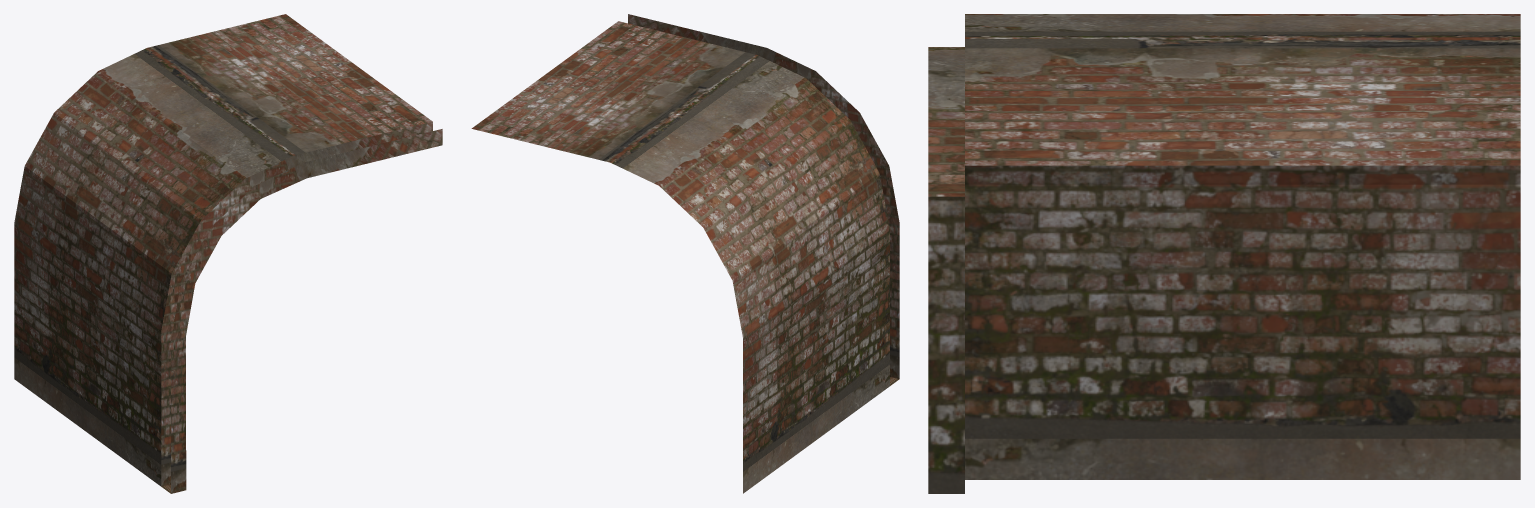
File: tunnel_HalfWall1_GEO.fbx
3 views of the same model, side by side, from view 1: azimuth 30°, elevation 25°; view 2: azimuth 150°, elevation 25°; view 3: azimuth 270°, elevation 25° (orthographic). The views are drawn at different scales.
Parts seen in each view (by area): view 1: tunnel_HalfWall1_GEO; view 2: tunnel_HalfWall1_GEO; view 3: tunnel_HalfWall1_GEO.
Part boxes in pixels (x1,y1,x2,y2): tunnel_HalfWall1_GEO: (14,14,442,493); tunnel_HalfWall1_GEO: (471,14,899,493); tunnel_HalfWall1_GEO: (928,14,1520,493).
Bounding box in the file's own units: 5 × 5.26 × 5.
